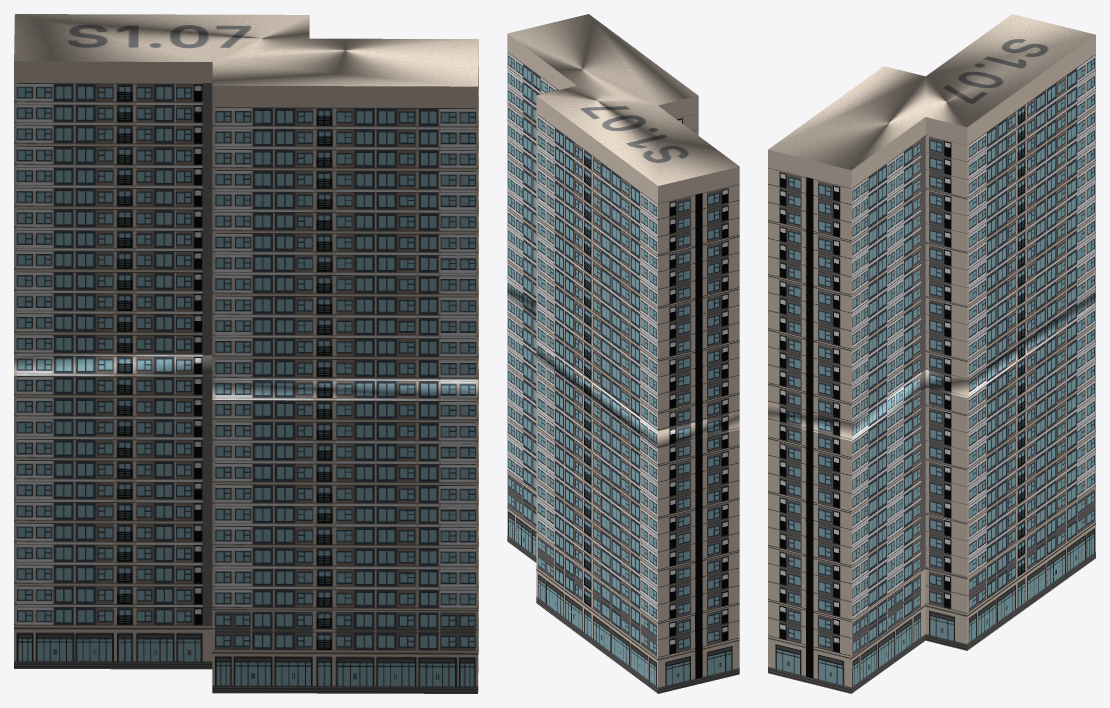
3 renders of one model, left to right at view 1: azimuth 30°, elevation 25°; view 2: azimuth 150°, elevation 25°; view 3: azimuth 270°, elevation 25°, orthographic. The views are drawn at different scales.
Visible parts, largest first — view 1: Asset3DLoader.sceneRoot; view 2: Asset3DLoader.sceneRoot; view 3: Asset3DLoader.sceneRoot.
Boxes of the visible parts, x1,y1,x2,y2 form: Asset3DLoader.sceneRoot: (14, 14, 478, 693); Asset3DLoader.sceneRoot: (507, 14, 739, 693); Asset3DLoader.sceneRoot: (768, 14, 1095, 693).
Bounding box in the file's own units: 61.14 × 95.5 × 54.2.
1 material, 1 textured.
